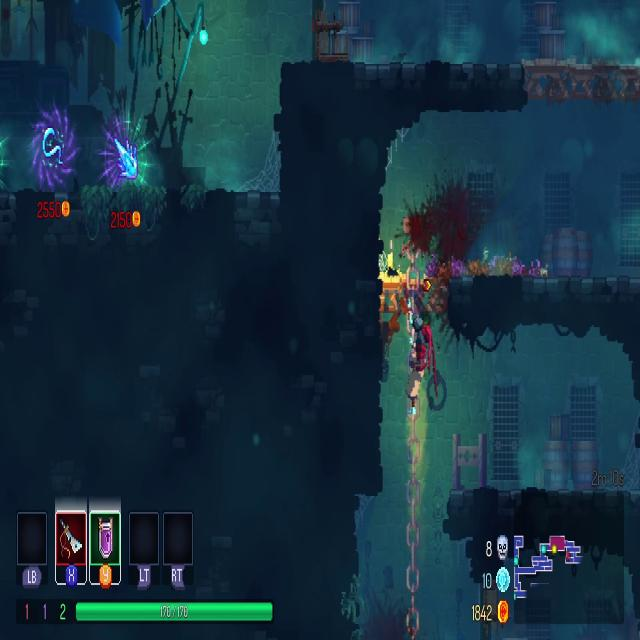agents: (407, 284, 435, 414)
wood_floor: (522, 57, 640, 105)
